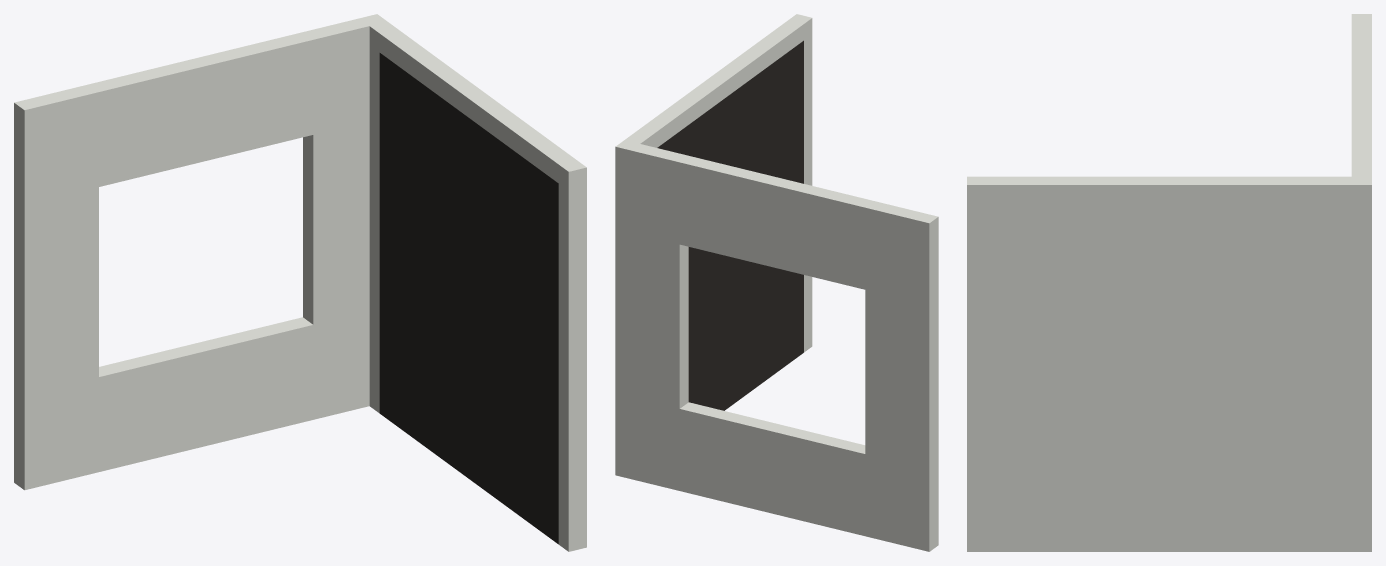
Rendered from Wal_1_8.fbx.
3 views of the same model, side by side, from view 1: azimuth 30°, elevation 25°; view 2: azimuth 150°, elevation 25°; view 3: azimuth 270°, elevation 25° (orthographic). The views are drawn at different scales.
Parts seen in each view (by area): view 1: polySurface1868; view 2: polySurface1868; view 3: polySurface1868.
Part boxes in pixels (x1,y1,x2,y2): polySurface1868: (14, 14, 586, 551); polySurface1868: (615, 14, 938, 551); polySurface1868: (967, 14, 1371, 551).
Bounding box in the file's own units: 4 × 4 × 4.
1 material, 1 textured.
